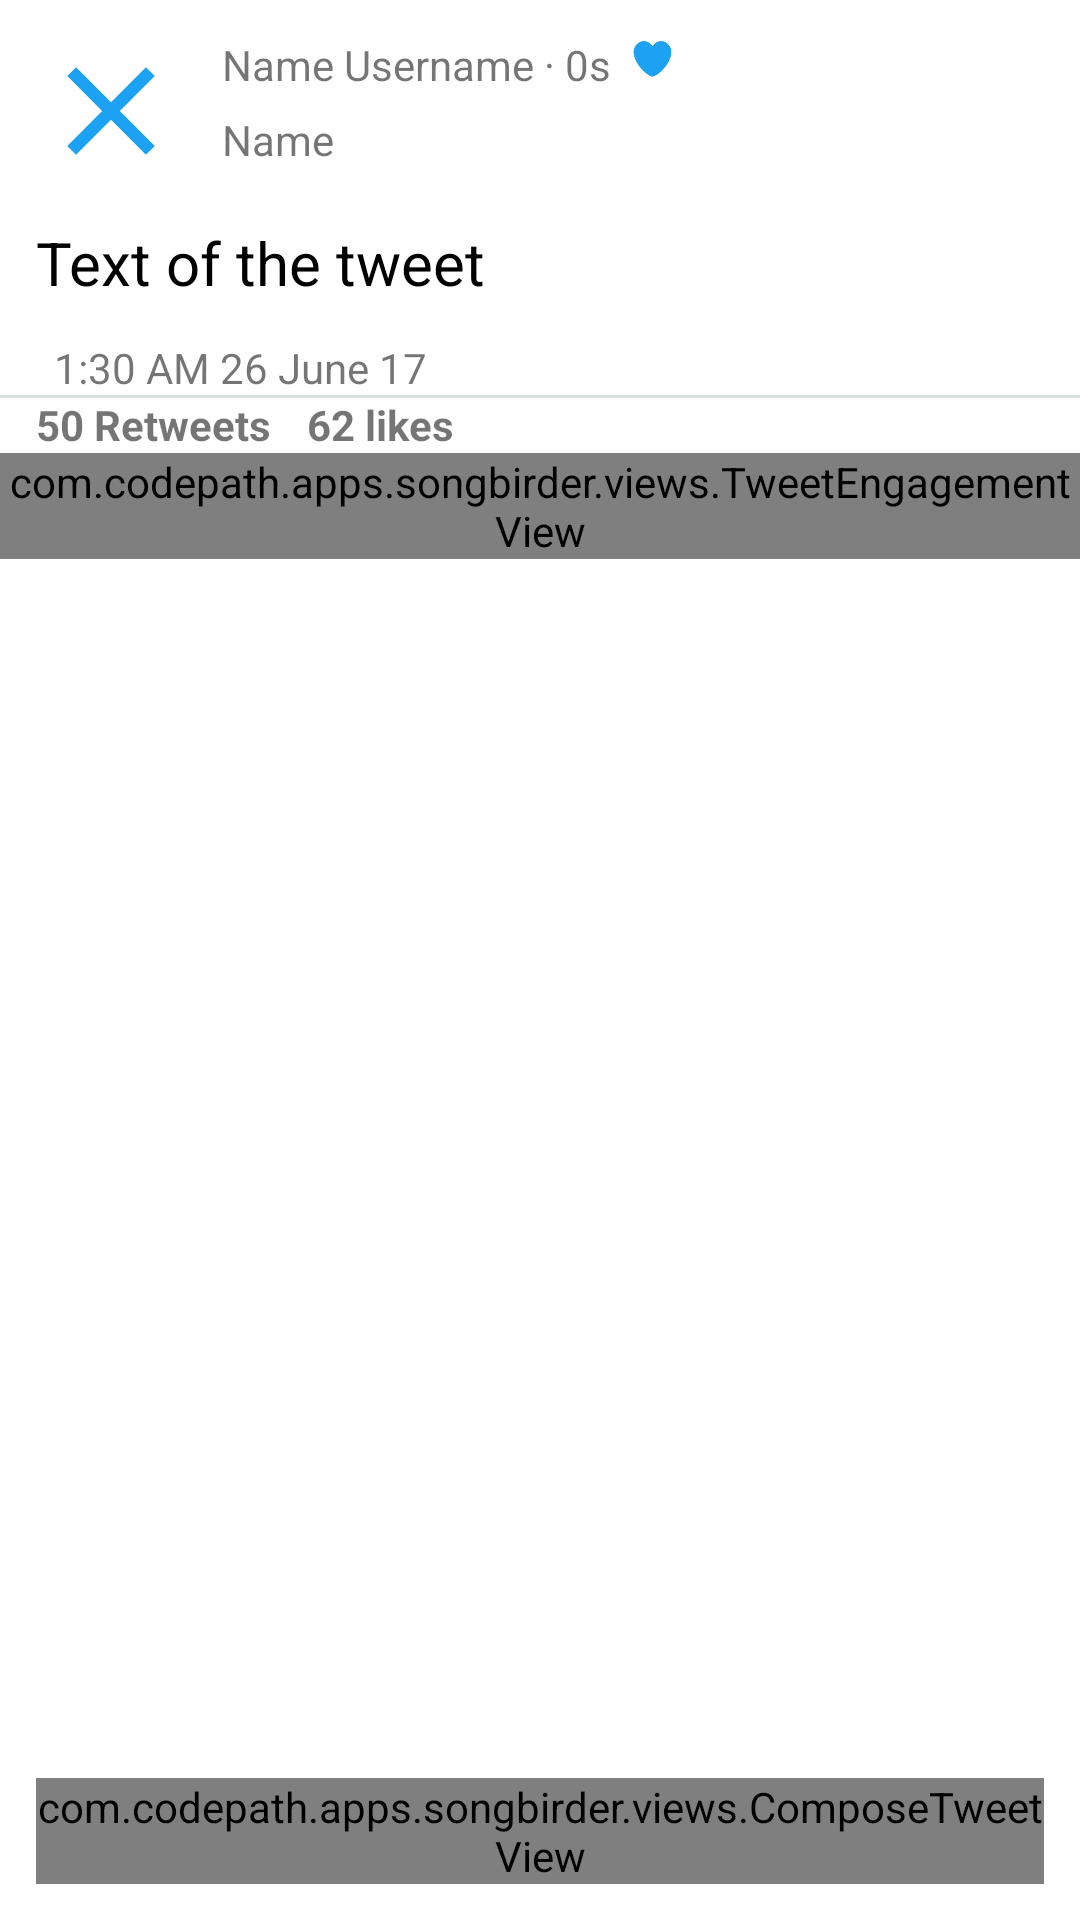

Icons on this 1080px x 1920px Android screen, each with the point to tap as [x,y]:
close: [111,111]
like: [652,59]
